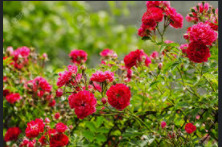RedRose: (68, 88, 99, 118), (108, 83, 131, 111)
